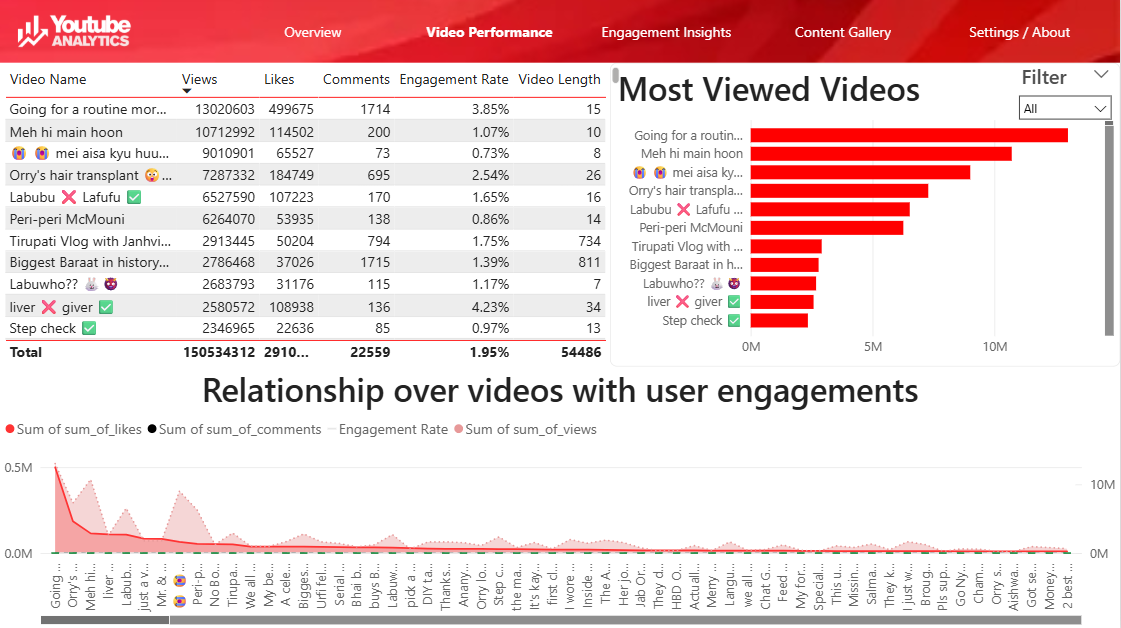

This screenshot's page, from the dashboard's own definition file:
{"tool":"powerbi","page":{"name":"Video Performance","canvas":[1280,720],"ordinal":1},"visuals":[{"type":"tableEx","fields":{"Values":["orry_youtube_data_FINAL.video_name","Sum(orry_youtube_data_FINAL.sum_of_views)","Sum(orry_youtube_data_FINAL.sum_of_likes)","Sum(orry_youtube_data_FINAL.sum_of_comments)","orry_youtube_data_FINAL.Engagement Rate","Sum(orry_youtube_data_FINAL.video_length_sec)"]},"box":[0,72.9,712.9,347.1],"z":0},{"type":"clusteredBarChart","title":"Most Viewed Videos","fields":{"Category":["orry_youtube_data_FINAL.video_name"],"Y":["Sum(orry_youtube_data_FINAL.sum_of_views)"]},"box":[697.1,72.9,582.9,347.1],"z":1000},{"type":"areaChart","title":"Relationship over videos with user engagements","fields":{"Category":["orry_youtube_data_FINAL.video_name"],"Y":["Sum(orry_youtube_data_FINAL.sum_of_likes)","Sum(orry_youtube_data_FINAL.sum_of_comments)","orry_youtube_data_FINAL.Engagement Rate"],"Y2":["Sum(orry_youtube_data_FINAL.sum_of_views)"]},"box":[0,420,1280,300],"z":2000},{"type":"actionButton","box":[0,0,100,40],"z":3000},{"type":"image","box":[0,0,1280,72.9],"z":4000},{"type":"pageNavigator","box":[261.9,12.5,1001.2,47.5],"z":5000},{"type":"image","box":[16.2,0,151.2,72.5],"z":6000},{"type":"slicer","fields":{"Values":["orry_youtube_data_FINAL.video_type","orry_youtube_data_FINAL.publish_date.Variation.Date Hierarchy.Month","orry_youtube_data_FINAL.Weekday Name"]},"box":[1154.3,72.9,125.7,68.6],"z":7000}]}

Visuals, with their boxes on the page's 1280x720 design canvas (x1, y1, x2, y2). These are canvas units, not pixel positions in the 1121x628 screenshot, which may show the page scaled, cropped or inside an application window:
tableEx - orry_youtube_data_FINAL.video_name x Sum(orry_youtube_data_FINAL.sum_of_views): (0,73,713,420)
"Most Viewed Videos" clusteredBarChart: (697,73,1280,420)
"Relationship over videos with user engagements" areaChart: (0,420,1280,720)
actionButton: (0,0,100,40)
image: (0,0,1280,73)
pageNavigator: (262,12,1263,60)
image: (16,0,167,72)
slicer - orry_youtube_data_FINAL.video_type x orry_youtube_data_FINAL.publish_date.Variation.Date Hierarchy.Month: (1154,73,1280,142)
